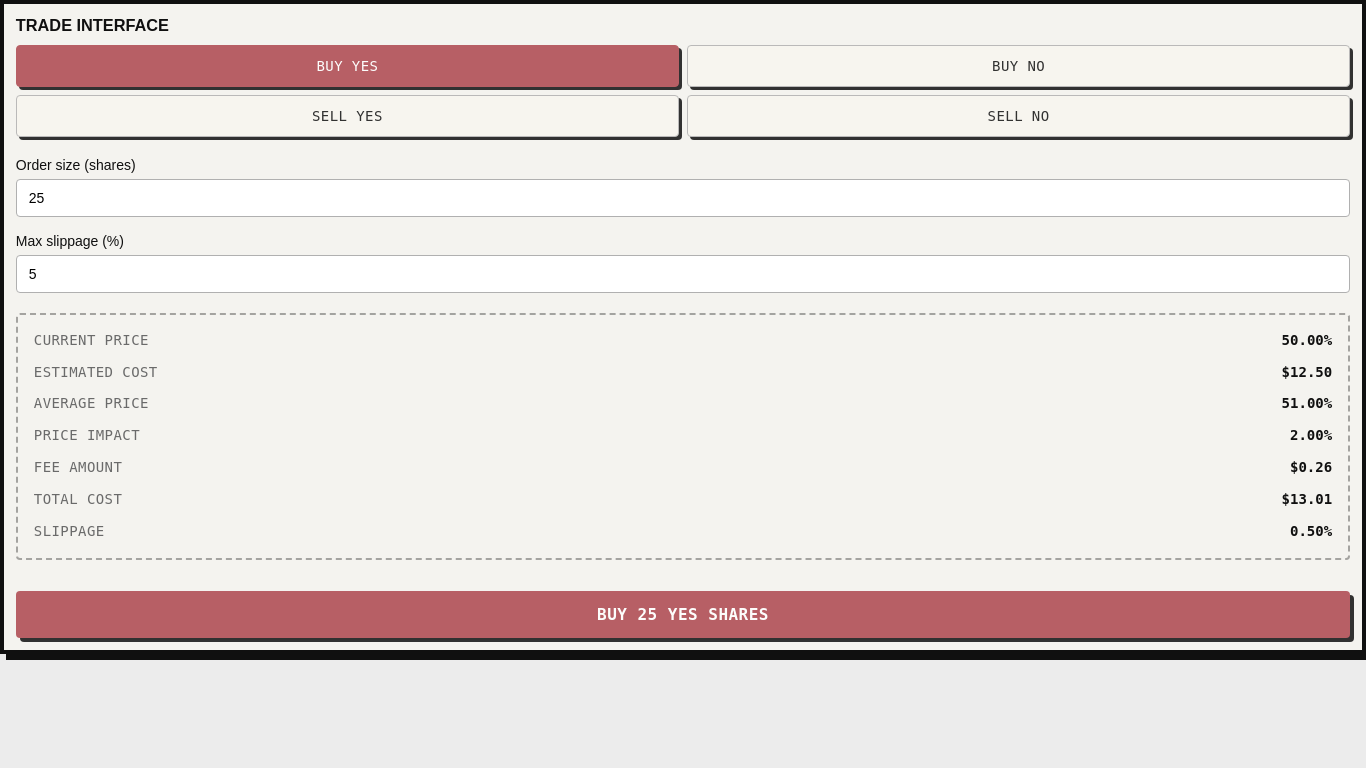
TradeInterface › prefers execute detail when both error and detail are returned
Click the button "Buy 25 YES shares" at x=683, y=615, box [16,591,1350,638]
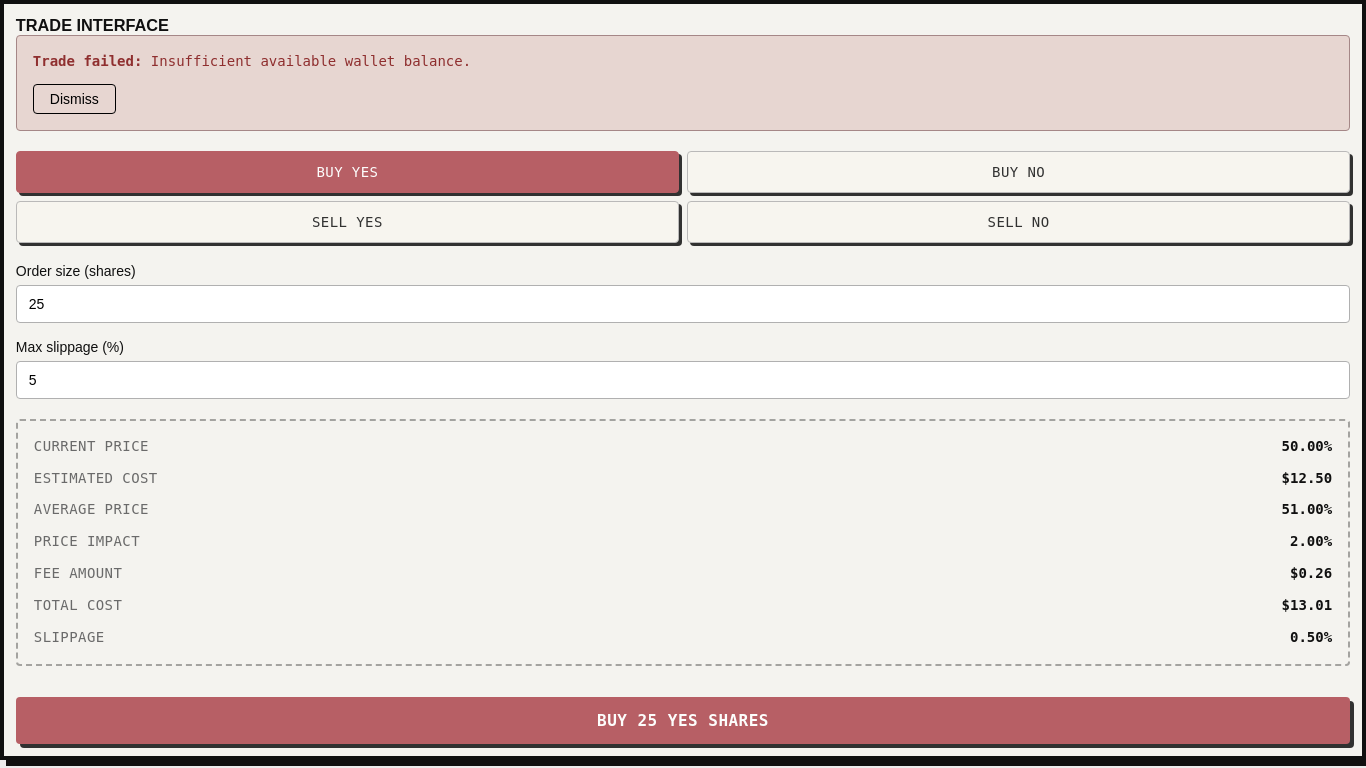
Result: the text "Insufficient available wallet balance." is shown at [151,53,471,69]
